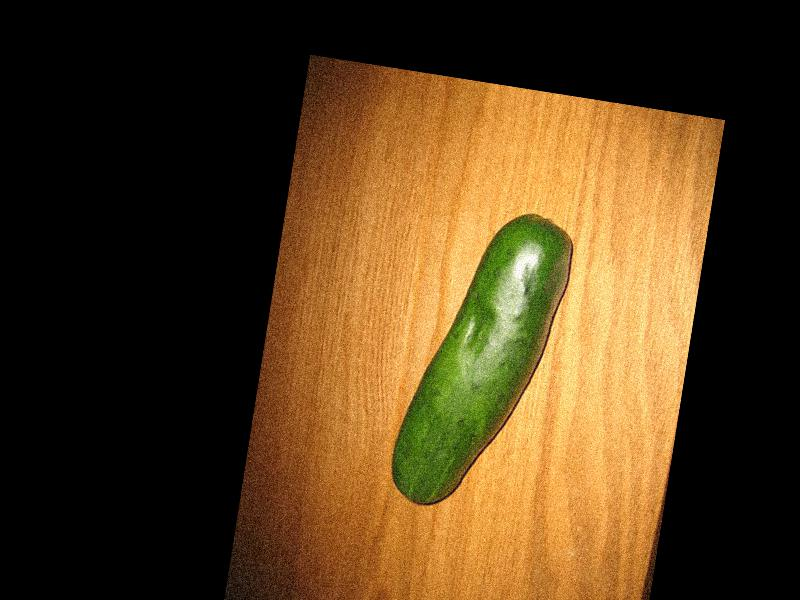Cucumber: (387, 202, 577, 522)
